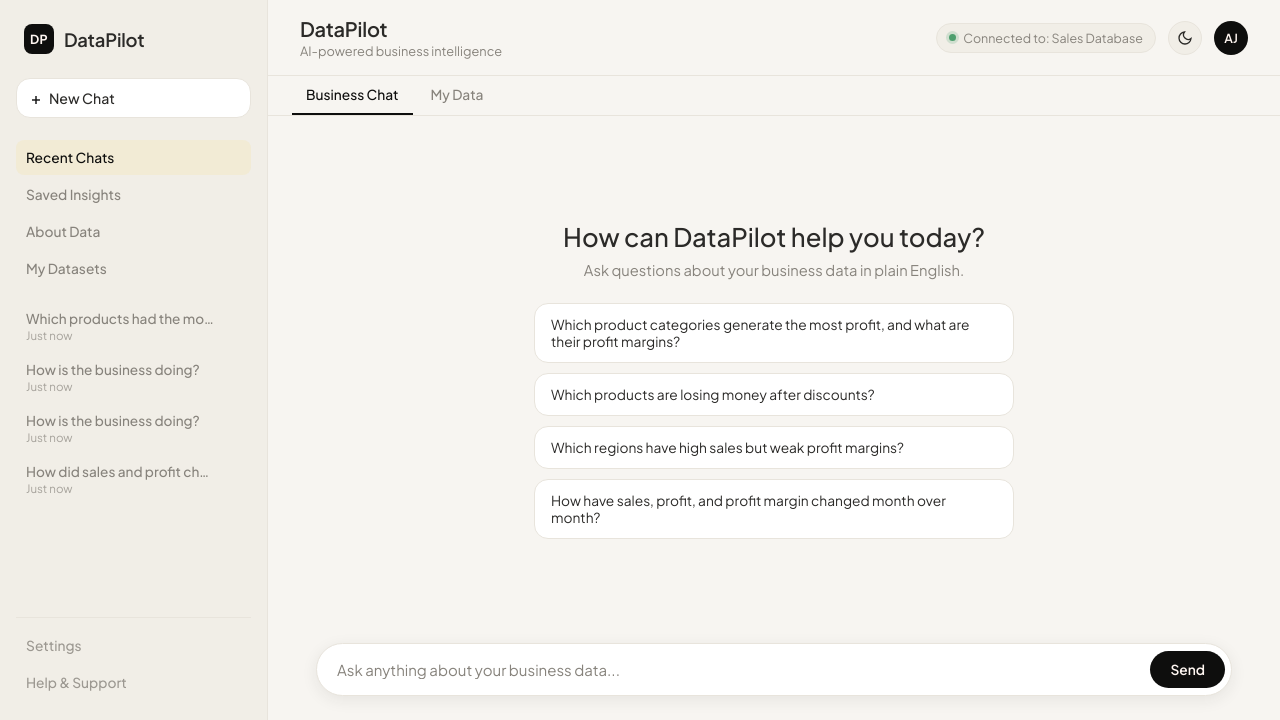
Test case: dataset import & catalog › groups the dataset catalog by dataset, not flattened
Click the button "My Datasets" at x=134, y=268, box [16,251,251,286]
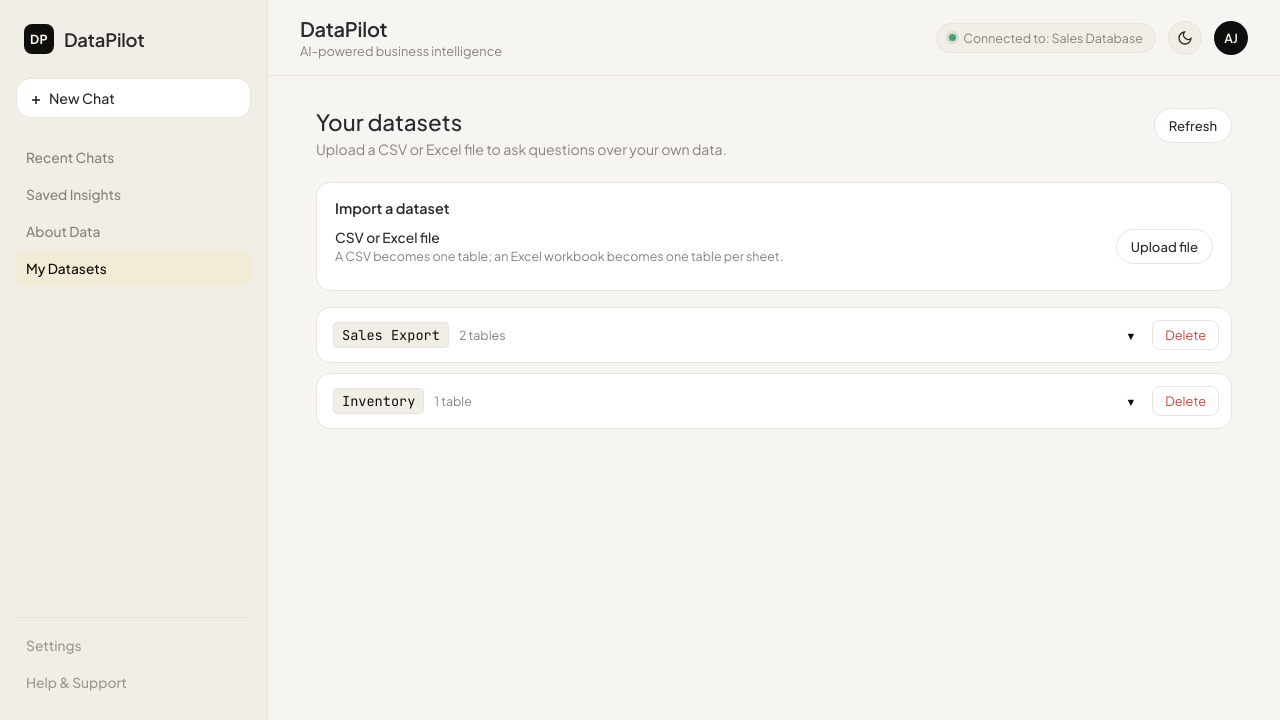
Expected: the text "Sales Export" is shown
Expected: the text "Inventory" is shown, [333,388,424,414]
Expected: the text "2 tables" is shown, [459,327,506,343]
Click the text "Sales Export" at x=391, y=335, box [333,322,449,348]
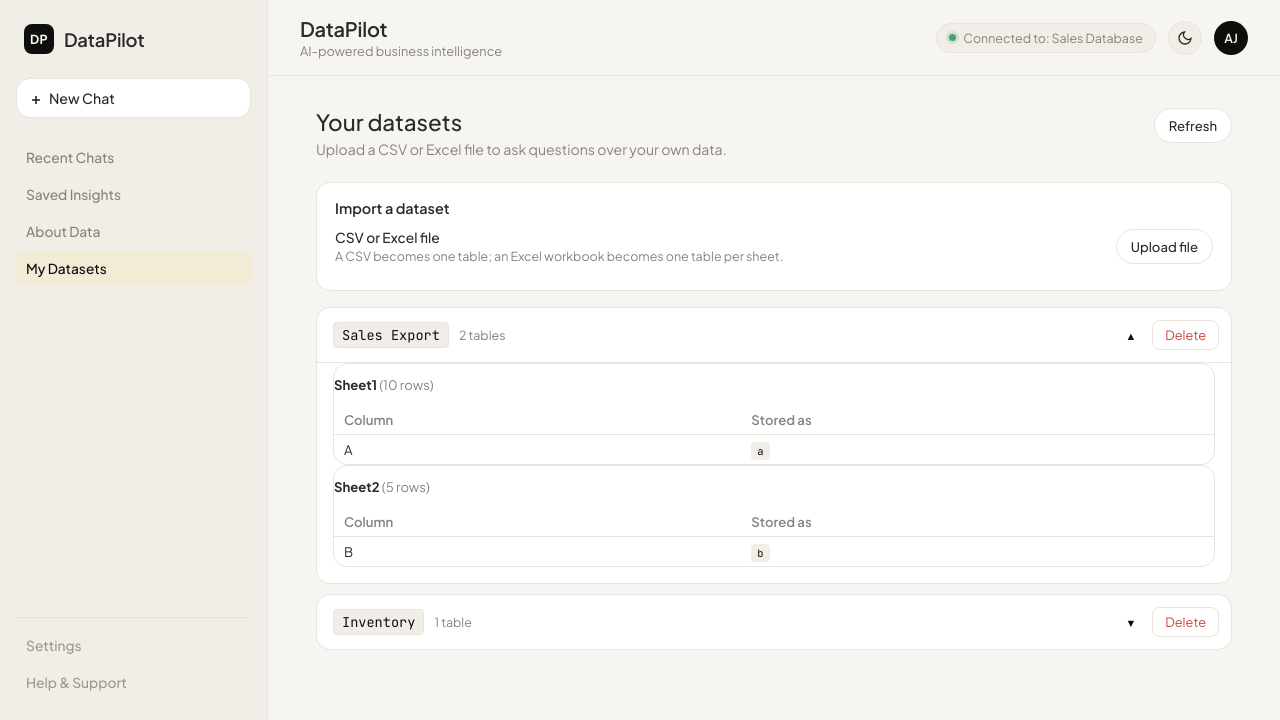
Expected: the text "Sheet1" is shown, [334,376,377,393]
